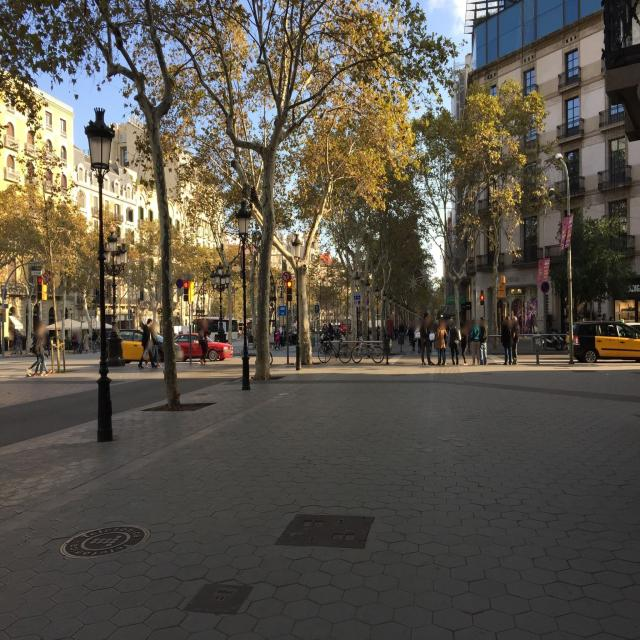bike: (318, 338, 358, 364), (348, 340, 386, 366)
car: (567, 320, 640, 364), (94, 330, 160, 364), (157, 333, 233, 362)
